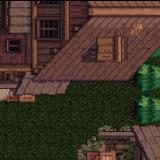Obstacle: (0, 0, 160, 123), (75, 123, 160, 160)
